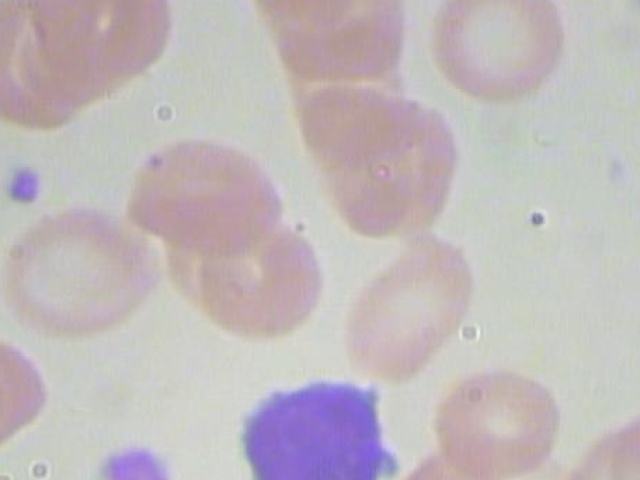Platelets: (97, 433, 176, 480), (0, 157, 44, 216)
RBC: (334, 235, 482, 390), (0, 209, 166, 344), (122, 132, 292, 254), (184, 216, 326, 340), (422, 0, 577, 103), (432, 363, 566, 480), (25, 0, 182, 88), (608, 396, 640, 480), (0, 328, 19, 469)
WBC: (209, 362, 405, 480)
